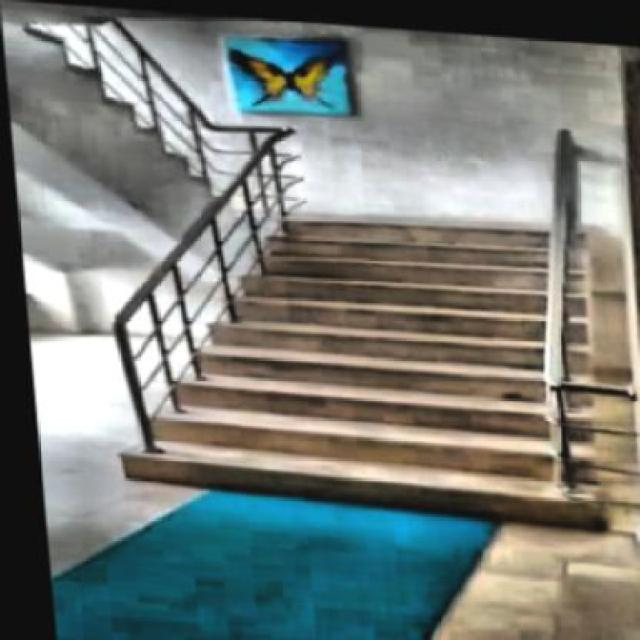stair: (103, 193, 606, 524)
